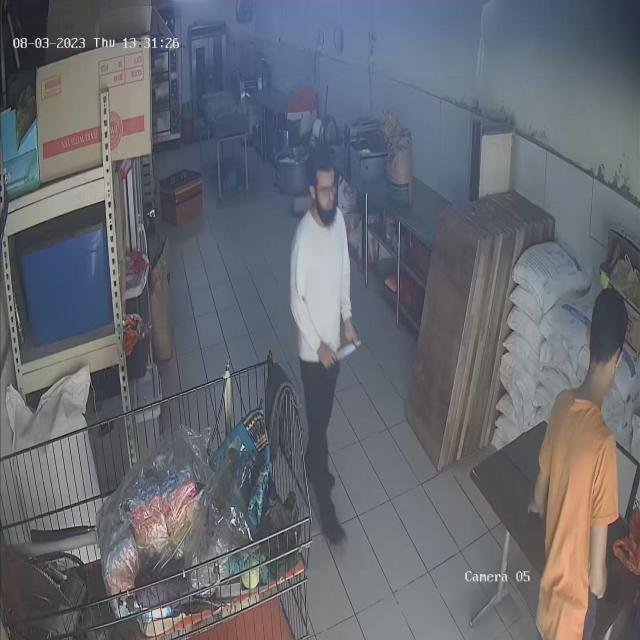Knife: (322, 337, 367, 376)
